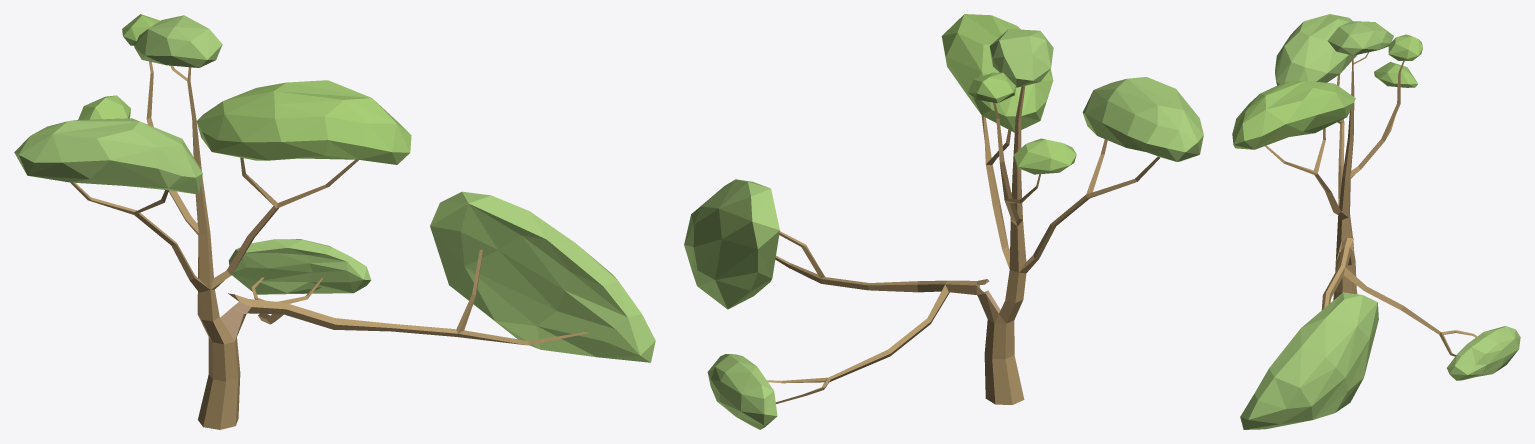
The model's file is Acacia_Tree_crk_l_BT_01.fbx.
3 renders of one model, left to right at view 1: azimuth 30°, elevation 25°; view 2: azimuth 150°, elevation 25°; view 3: azimuth 270°, elevation 25°, orthographic. The views are drawn at different scales.
Parts seen in each view (by area): view 1: Acacia_Tree_crk_l_BT_01; view 2: Acacia_Tree_crk_l_BT_01; view 3: Acacia_Tree_crk_l_BT_01.
Part boxes in pixels (<box>): Acacia_Tree_crk_l_BT_01: <box>14,14,655,429</box>; Acacia_Tree_crk_l_BT_01: <box>684,14,1203,429</box>; Acacia_Tree_crk_l_BT_01: <box>1232,14,1520,429</box>.
Size of the model in its own units: 1783 by 1181 by 1085.
